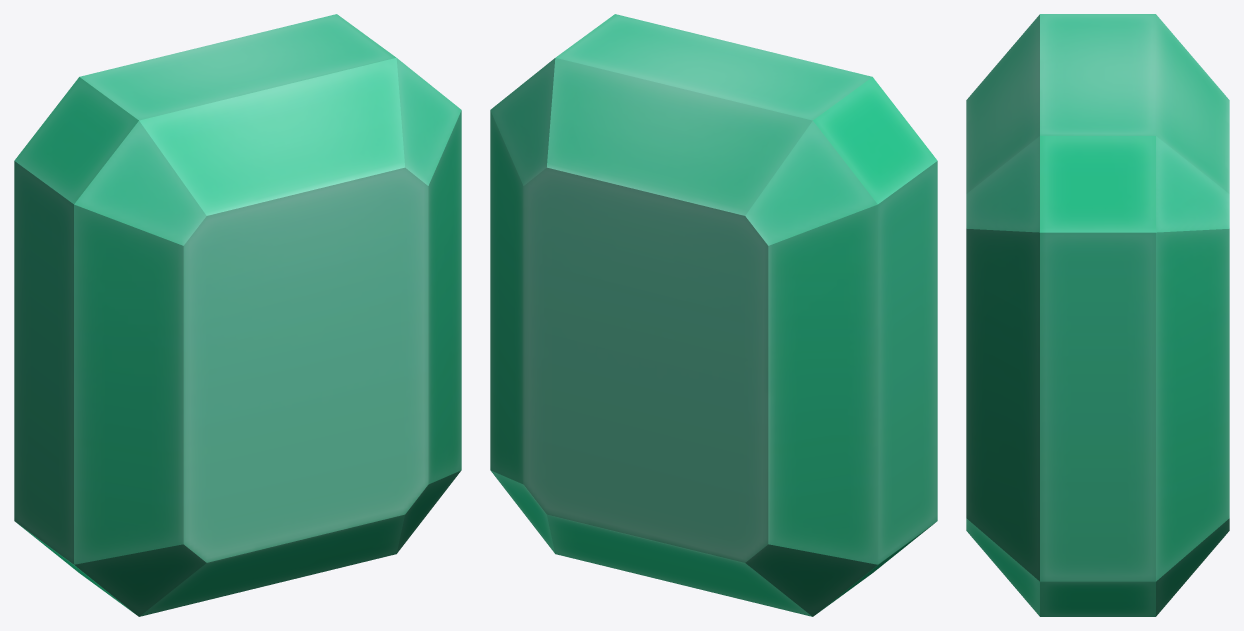
Rendered from Item3.fbx.
The picture shows the model from 3 angles, left to right: view 1: azimuth 30°, elevation 25°; view 2: azimuth 150°, elevation 25°; view 3: azimuth 270°, elevation 25°; orthographic projection. The views are drawn at different scales.
Visible parts, largest first — view 1: Mesh; view 2: Mesh; view 3: Mesh.
Part boxes in pixels (bbox=[...]): Mesh: bbox=[14, 14, 461, 616]; Mesh: bbox=[490, 14, 937, 616]; Mesh: bbox=[966, 14, 1229, 616].
Size of the model in its own units: 30.31 by 37.09 by 18.41.
